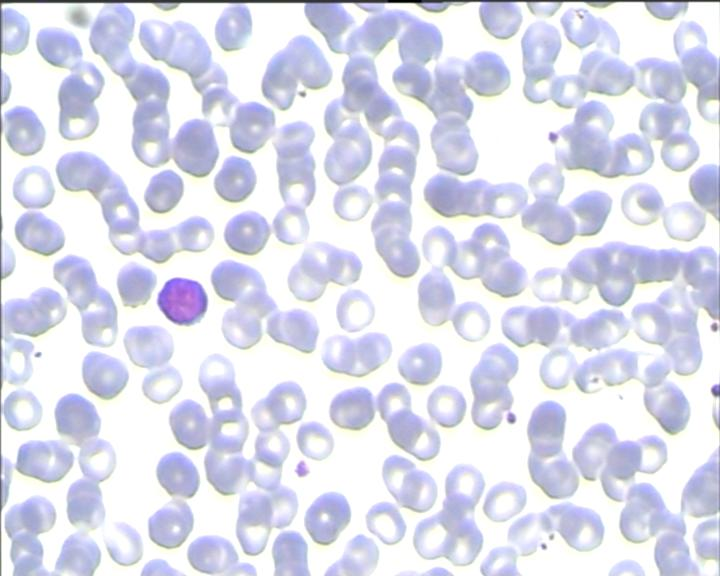lymp: (154, 276, 215, 332)
